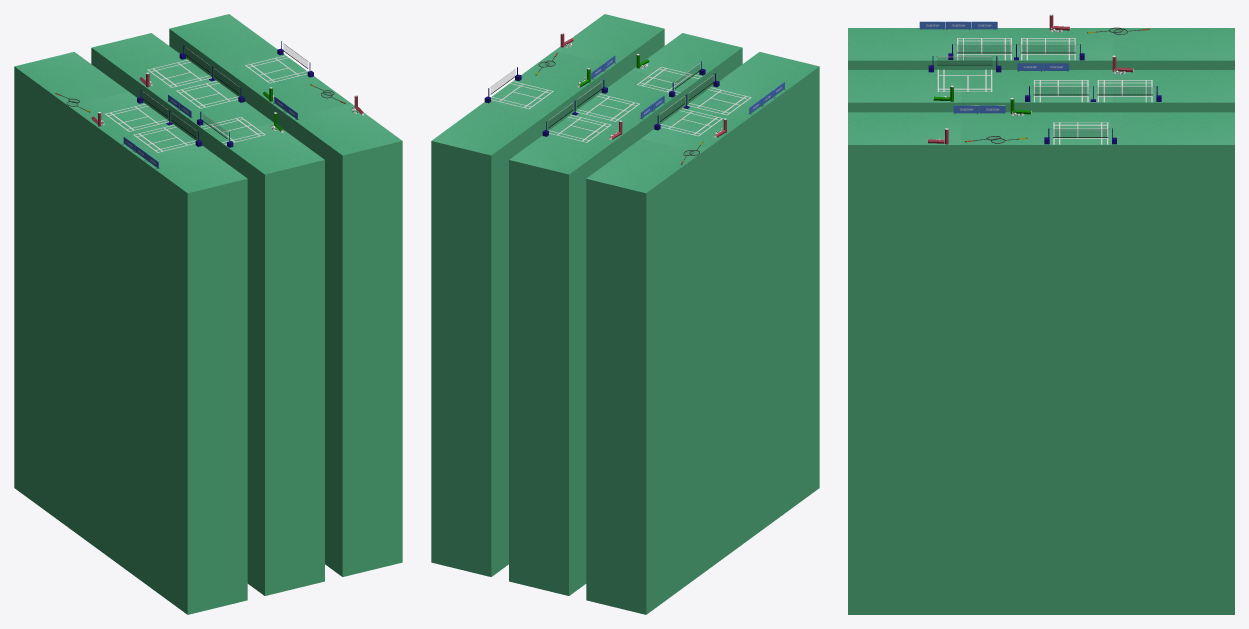
The model's file is stage3.glb.
3 renders of one model, left to right at view 1: azimuth 30°, elevation 25°; view 2: azimuth 150°, elevation 25°; view 3: azimuth 270°, elevation 25°, orthographic. The views are drawn at different scales.
Visible parts, largest first — view 1: $Road1, $Road3, $Road2, net.001, net, net.003, net.002; view 2: $Road1, $Road3, $Road2, net.001, net, net.003, net.002; view 3: $Road3, $Road2, $Road1, net.001, net, net.002, net.003, 큐브.001.
Part boxes in pixels (left/top/right/bottom): $Road1: left=14, top=52, right=247, bottom=614; $Road3: left=169, top=14, right=402, bottom=576; $Road2: left=91, top=33, right=324, bottom=595; net.001: left=147, top=45, right=244, bottom=108; net: left=105, top=90, right=202, bottom=152; net.003: left=245, top=41, right=313, bottom=83; net.002: left=197, top=111, right=265, bottom=147; $Road1: left=586, top=52, right=819, bottom=614; $Road3: left=431, top=14, right=664, bottom=576; $Road2: left=509, top=33, right=742, bottom=595; net.001: left=542, top=80, right=639, bottom=142; net: left=654, top=73, right=751, bottom=136; net.003: left=484, top=67, right=553, bottom=109; net.002: left=637, top=61, right=705, bottom=97; $Road3: left=848, top=112, right=1234, bottom=614; $Road2: left=848, top=70, right=1234, bottom=112; $Road1: left=848, top=28, right=1234, bottom=69; net.001: left=1025, top=80, right=1161, bottom=102; net: left=948, top=38, right=1084, bottom=60; net.002: left=928, top=56, right=1001, bottom=91; net.003: left=1044, top=122, right=1116, bottom=144; 큐브.001: left=919, top=21, right=997, bottom=30.
Size of the model in its own units: 21.47 by 41.52 by 30.
12 materials, 3 textured.
